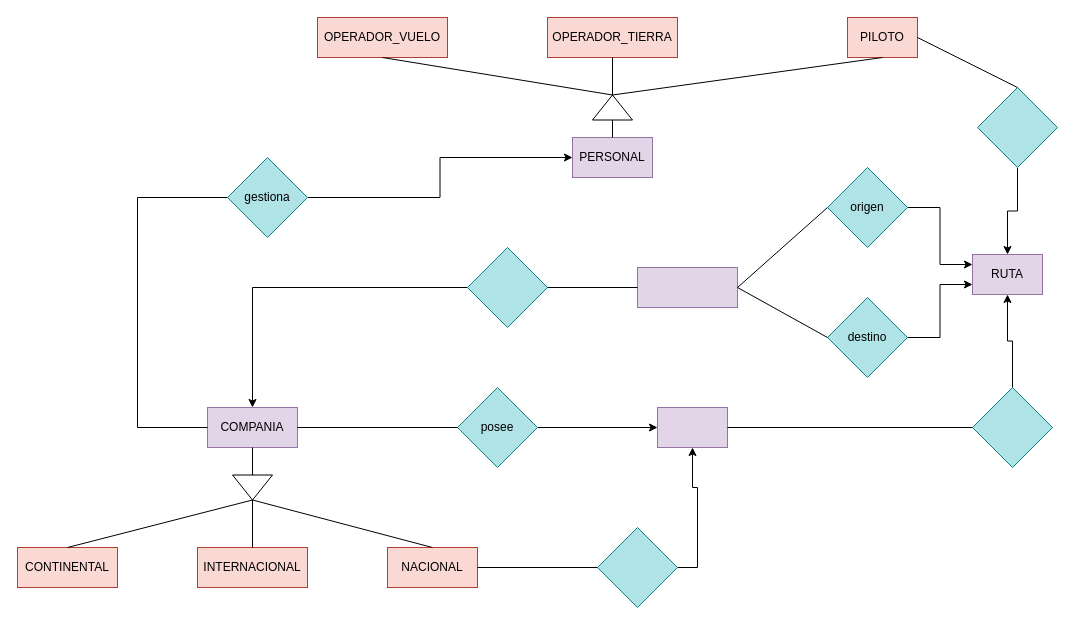
Image size: 1075x625. Some labels were removed from this diagram. The shapes that lost their labels are listed below. From the top down, each one's box as (x1, y1, x2, y2) in pixels, then its label:
(976, 86, 1058, 168): asignada
(466, 246, 548, 328): contrata
(636, 266, 738, 308): AEROPUERTO
(656, 406, 728, 448): AVION
(972, 386, 1052, 468): designado
(596, 526, 678, 608): alquila
